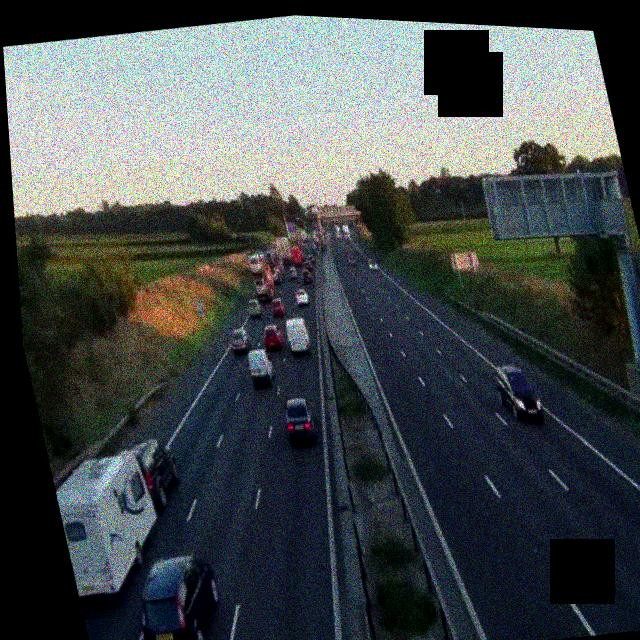car: (125, 548, 233, 640), (121, 434, 184, 513), (491, 359, 546, 426), (280, 396, 320, 448), (244, 346, 278, 388), (284, 316, 312, 355), (228, 328, 253, 356), (261, 322, 284, 351), (245, 297, 263, 318), (295, 288, 311, 308), (269, 298, 284, 318), (300, 270, 312, 285), (367, 257, 379, 271), (288, 266, 300, 279)
truck: (48, 447, 174, 603), (246, 250, 277, 299), (274, 235, 296, 268), (296, 231, 311, 253), (340, 223, 351, 239)
